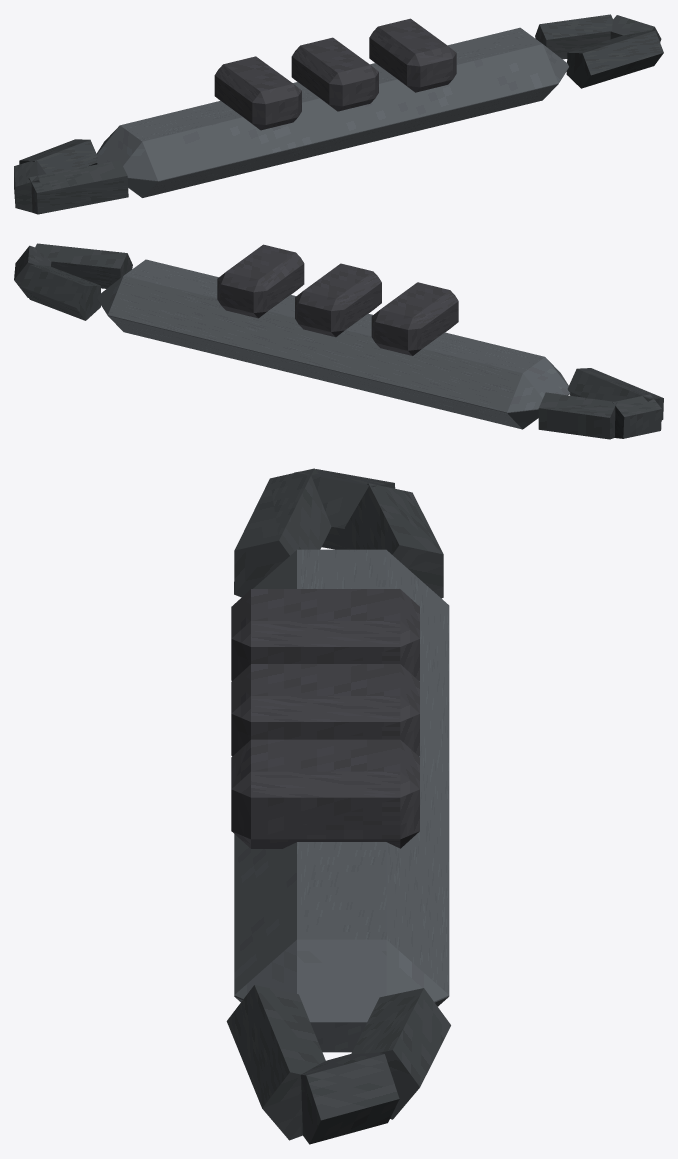
The model's file is molle_papr_blower_off.glb.
The picture shows the model from 3 angles, top to bottom: view 1: azimuth 30°, elevation 25°; view 2: azimuth 150°, elevation 25°; view 3: azimuth 270°, elevation 25°; orthographic projection. The views are drawn at different scales.
Visible parts, largest first — view 1: block_pouch body, block_vented module (×3), block_buckled strap 2 (×2), block_buckled strap 0 (×2), block_buckled strap 1 (×2); view 2: block_pouch body, block_vented module (×3), block_buckled strap 0 (×2), block_buckled strap 2 (×2), block_buckled strap 1 (×2); view 3: block_pouch body, block_vented module (×3), block_buckled strap 2 (×2), block_buckled strap 0 (×2), block_buckled strap 1 (×2).
Part boxes in pixels (x1=…): block_pouch body: x1=96, y1=27, x2=568, y2=197; block_vented module (×3): x1=214, y1=18, x2=456, y2=130; block_buckled strap 2 (×2): x1=28, y1=30, x2=663, y2=214; block_buckled strap 0 (×2): x1=19, y1=14, x2=612, y2=173; block_buckled strap 1 (×2): x1=14, y1=15, x2=661, y2=212; block_pouch body: x1=97, y1=259, x2=570, y2=429; block_vented module (×3): x1=217, y1=244, x2=458, y2=355; block_buckled strap 0 (×2): x1=20, y1=264, x2=617, y2=439; block_buckled strap 2 (×2): x1=35, y1=243, x2=663, y2=420; block_buckled strap 1 (×2): x1=14, y1=245, x2=661, y2=438; block_pouch body: x1=234, y1=549, x2=449, y2=1052; block_vented module (×3): x1=231, y1=589, x2=419, y2=848; block_buckled strap 2 (×2): x1=226, y1=468, x2=331, y2=1140; block_buckled strap 0 (×2): x1=345, y1=483, x2=450, y2=1119; block_buckled strap 1 (×2): x1=293, y1=469, x2=399, y2=1144.
Size of the model in its own units: 0.3043 by 0.0399 by 0.0459.
1 material, 1 textured.
